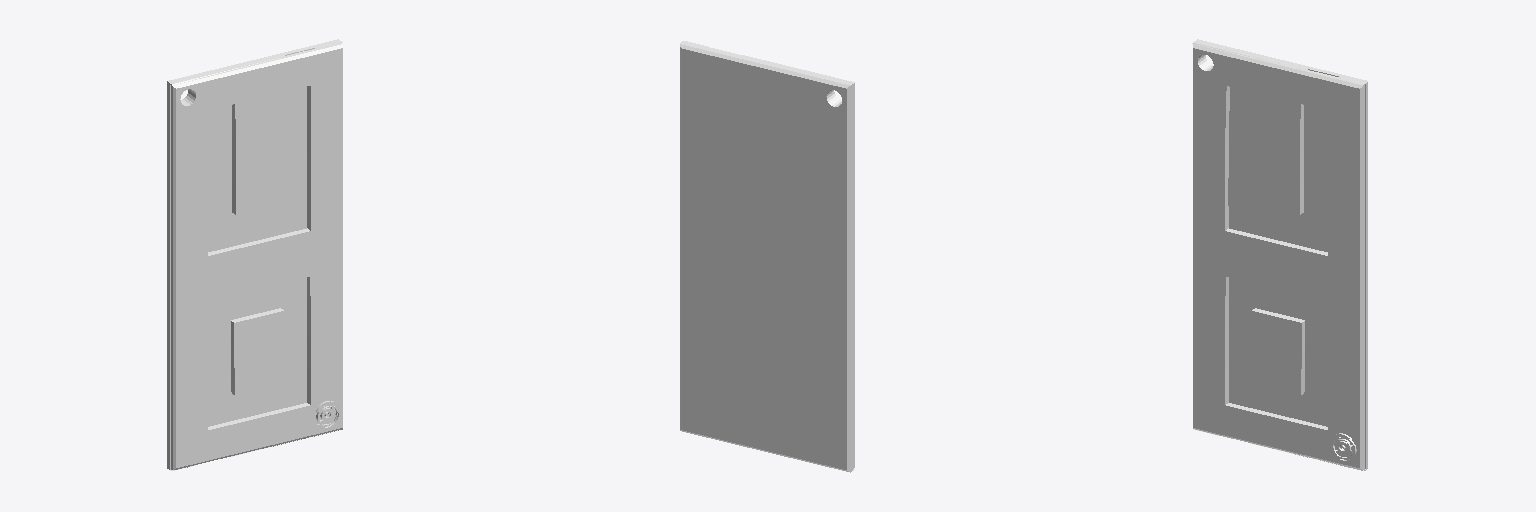
The model's file is NFC Keycahin.obj.
3 renders of one model, left to right at view 1: azimuth 30°, elevation 25°; view 2: azimuth 150°, elevation 25°; view 3: azimuth 330°, elevation 25°, orthographic.
Parts seen in each view (by area): view 1: obj_0; view 2: obj_0; view 3: obj_0.
Boxes of the visible parts, <box> form: obj_0: <box>167,39,342,470</box>; obj_0: <box>680,41,854,472</box>; obj_0: <box>1192,39,1367,470</box>.
Size of the model in its own units: 32.46 by 70 by 3.